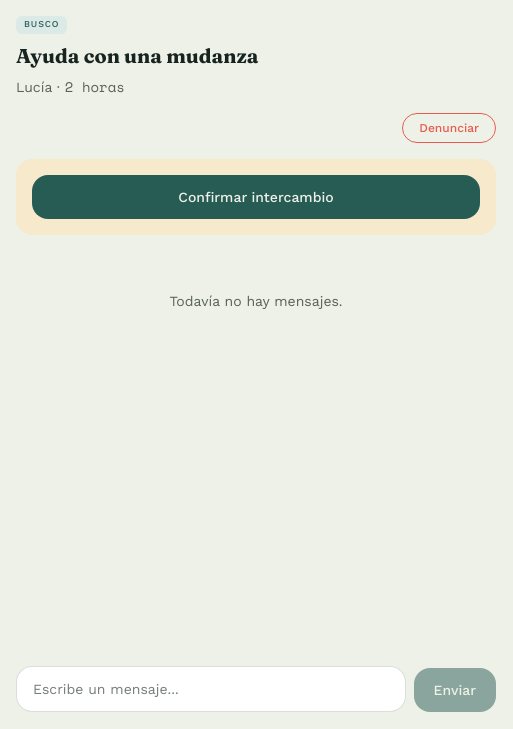
Confirmar intercambio desde el chat › si ya no se puede confirmar, avisa y vuelve a pedir el detalle
This screenshot has width=513, height=729.
Step 1. Click the button "Confirmar intercambio" → {"x": 256, "y": 197}, box [32,175,480,219]
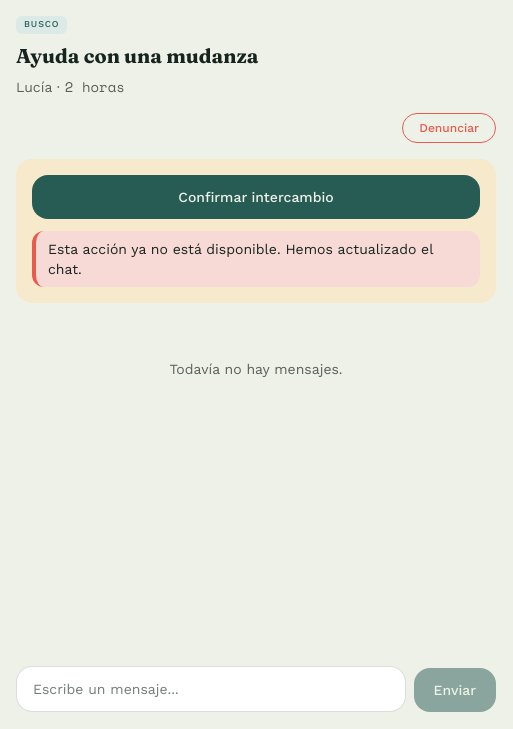
Result: the message shows "ya no está disponible" at [48,241,434,277]
